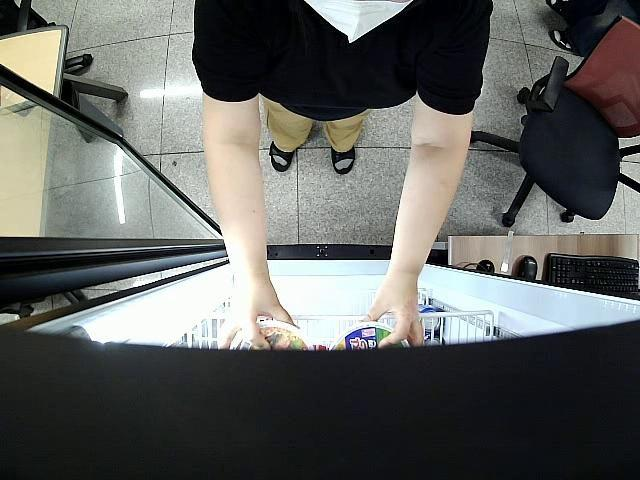09_yukGaeJang: (226, 319, 310, 350), (329, 322, 411, 353)
